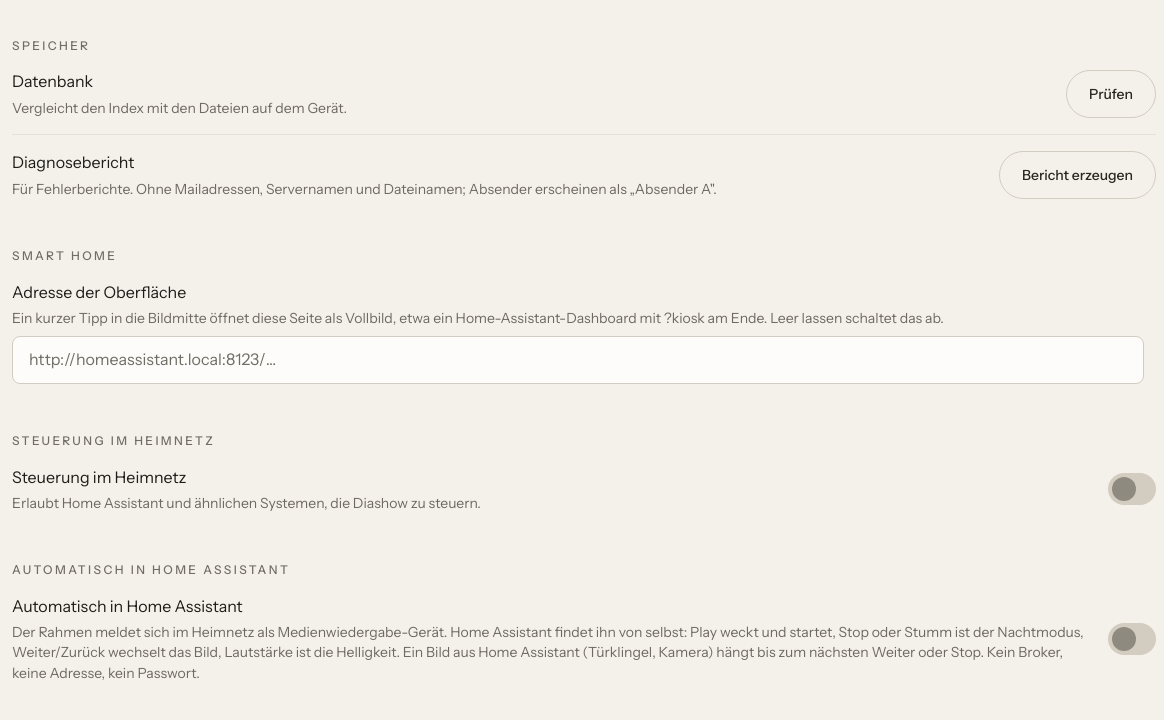
Test: Smart Home › reicht eine gueltige Adresse durch und schweigt
(page scrolled)
Type "http://homeassistant.local:8123/wandtablet/jetzt?kiosk" into the field with placeholder "http://homeassistant.local:8123/…".
click(578, 360); type("http://homeassistant.local:8123/wandtablet/jetzt?kiosk")  # box x1=12 y1=336 x2=1144 y2=384
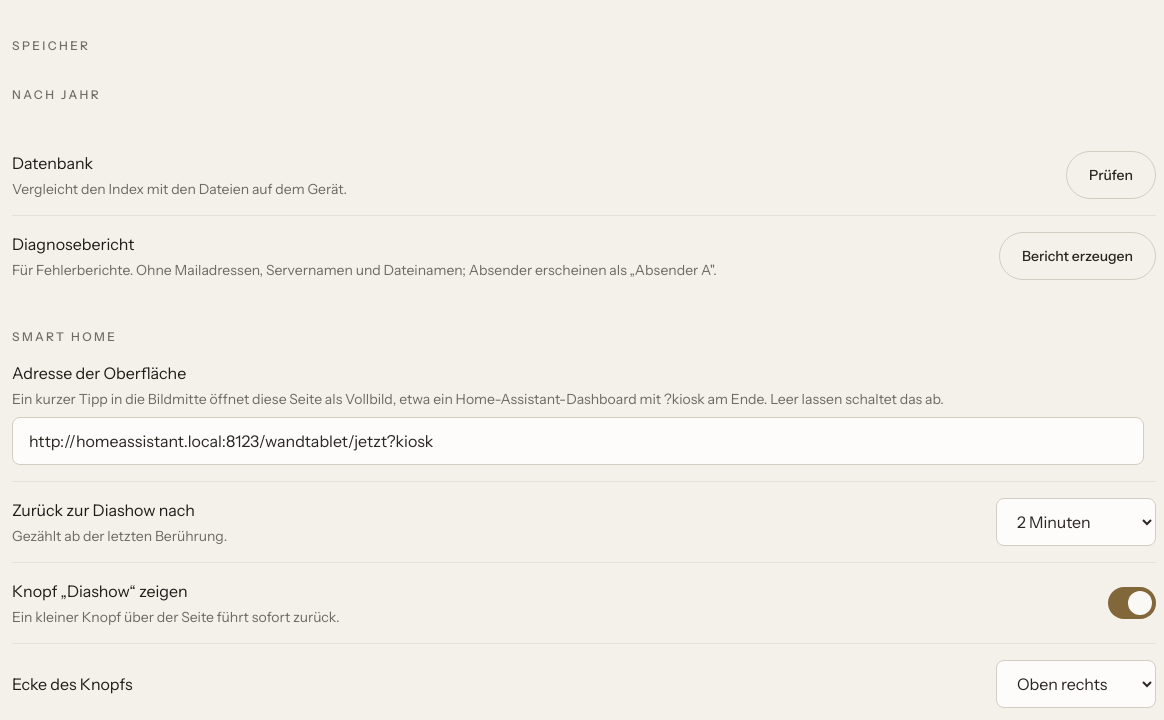
Expected: the text "Zurück zur Diashow nach" is shown, x1=12 y1=500 x2=195 y2=520
